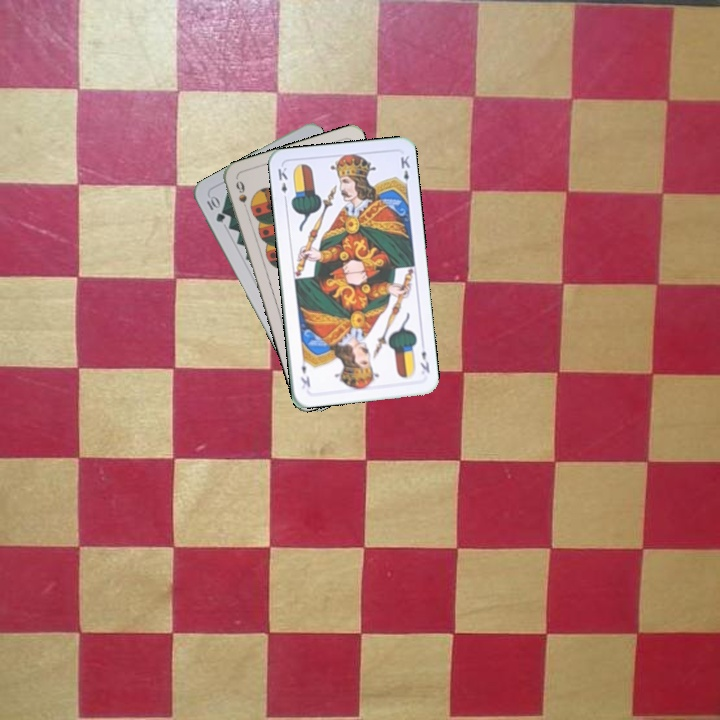EK: (274, 163, 290, 204), (416, 346, 432, 375)
G10: (202, 192, 228, 225)
S9: (232, 176, 251, 216)
